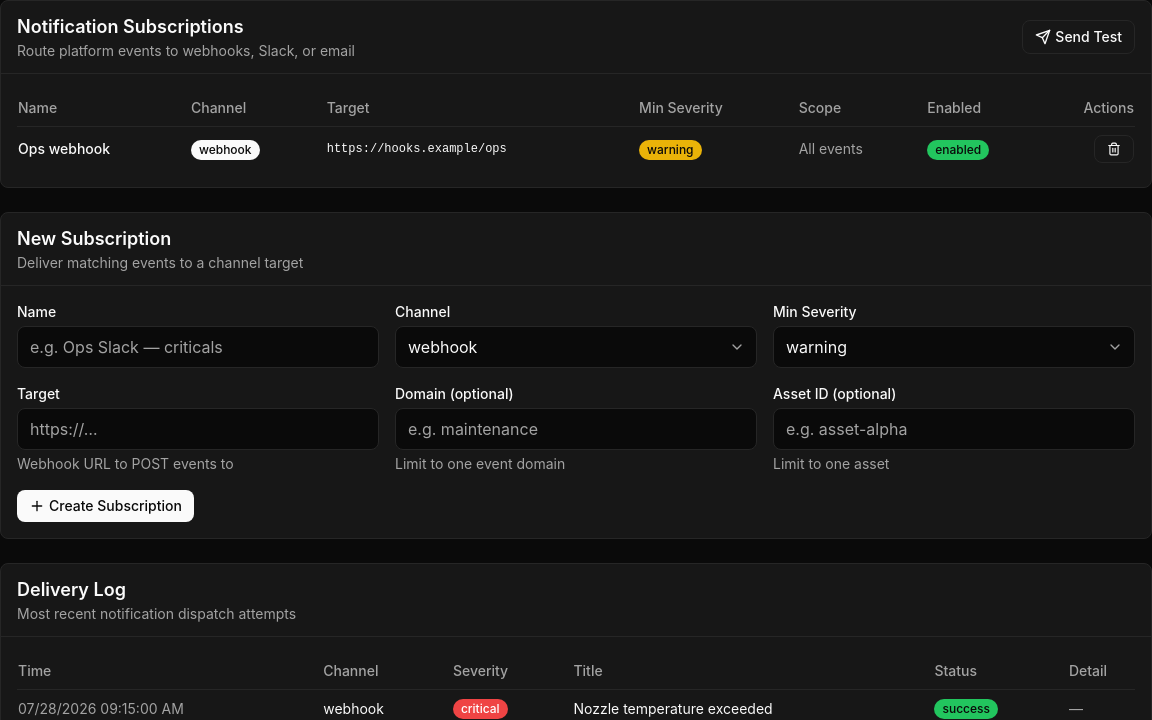
it: Notifications — deleting a subscription › does not leave a failed delete looking like a successful one
Check: the text "Ops webhook" is shown, box [17, 126, 190, 171]
Click the button named "delete".
click(1114, 149)  # box [1094, 135, 1134, 163]
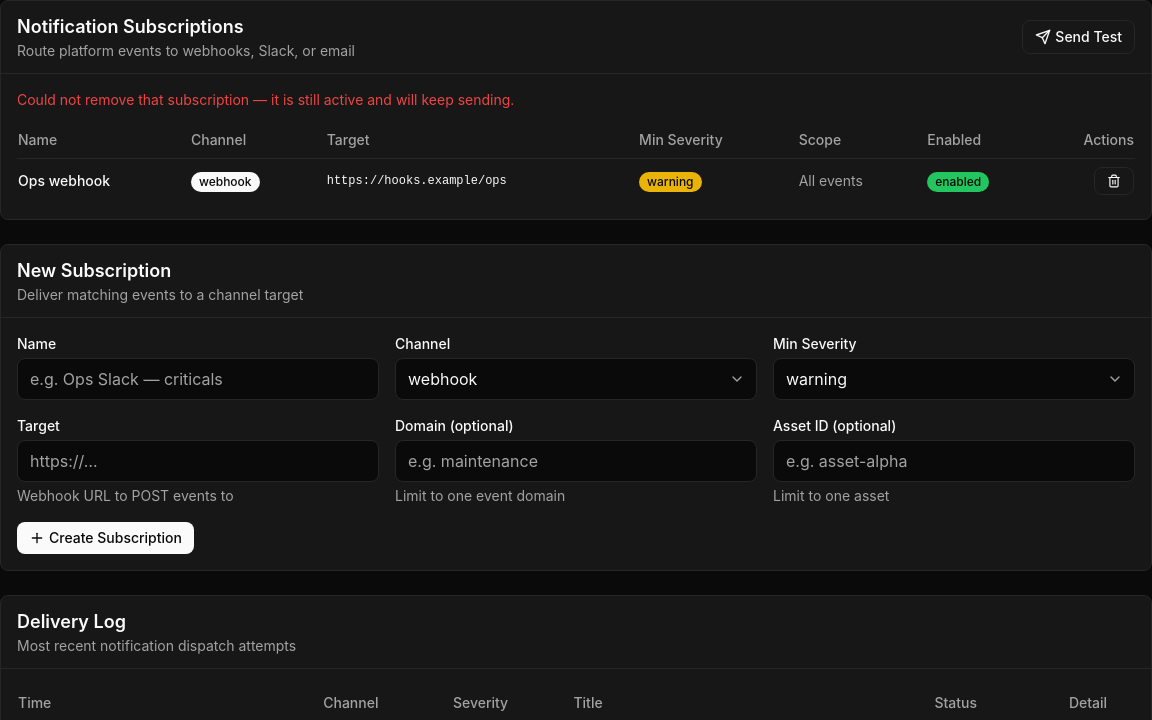
Check: the text "Ops webhook" is shown, box [17, 158, 190, 203]
Check: the message shows "still active and will keep sending", box [17, 91, 514, 108]
